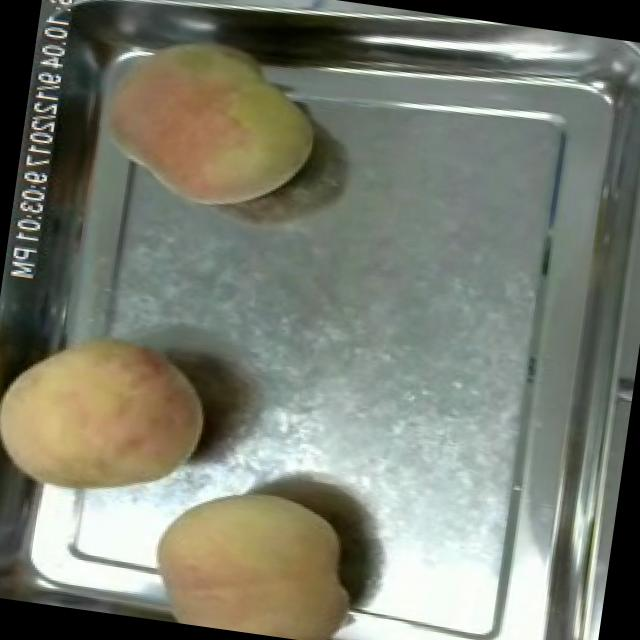Fruit: (84, 13, 334, 230), (0, 312, 224, 521), (133, 466, 376, 640)
